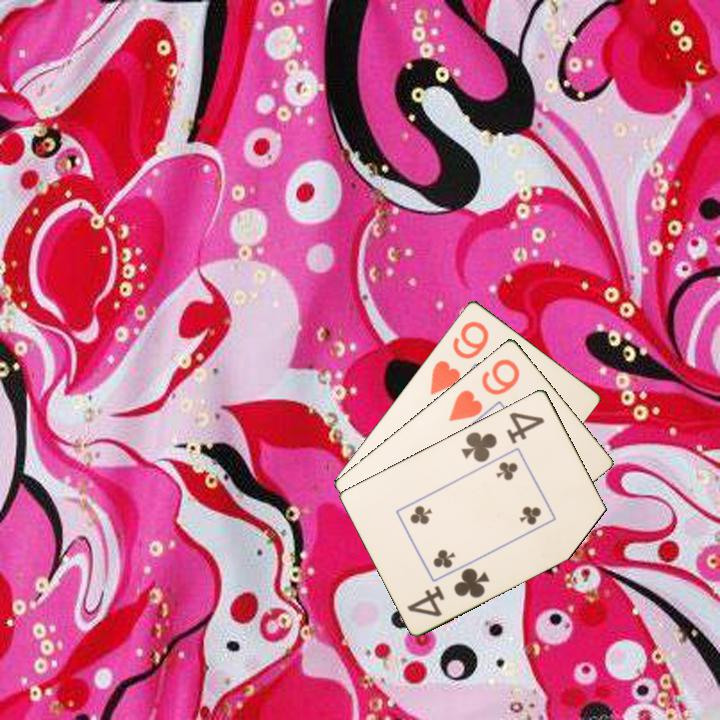4c: (457, 408, 548, 465), (404, 564, 493, 620)
9h: (445, 355, 523, 424), (426, 317, 492, 398)
